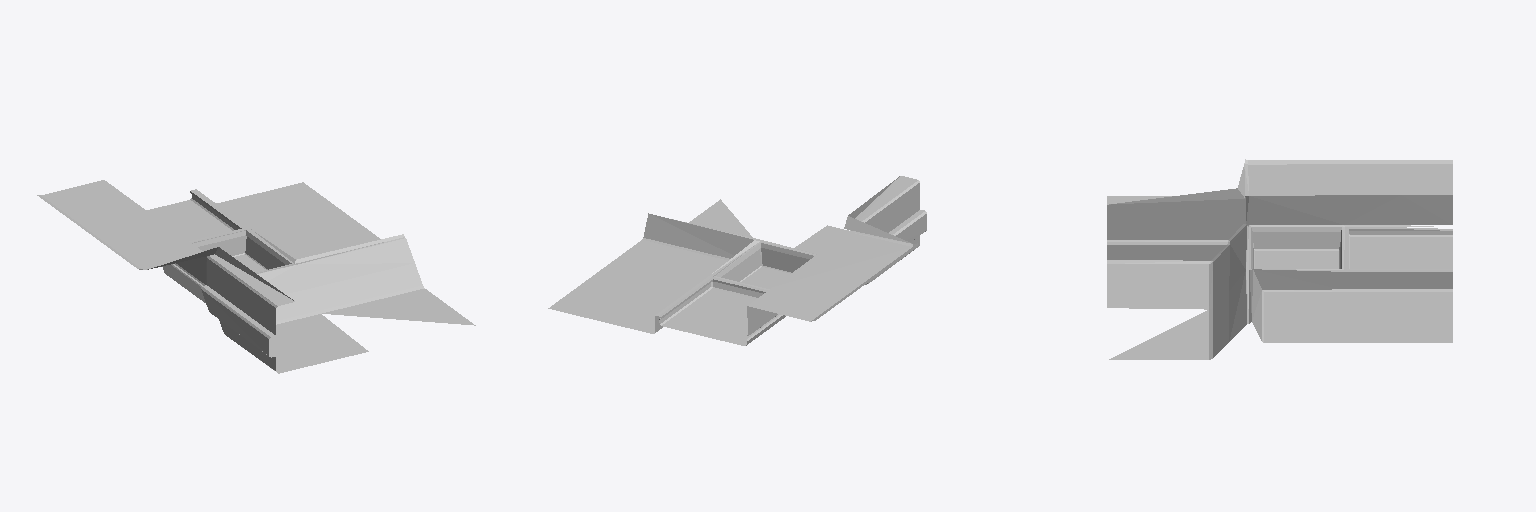
File: shard12.obj
The picture shows the model from 3 angles: view 1: azimuth 30°, elevation 25°; view 2: azimuth 150°, elevation 25°; view 3: azimuth 270°, elevation 25°; orthographic projection.
Visible parts, largest first — view 1: defaultMaterial.010; view 2: defaultMaterial.010; view 3: defaultMaterial.010.
Part boxes in pixels (x1,y1,x2,y2): defaultMaterial.010: (37, 180, 475, 373); defaultMaterial.010: (548, 176, 926, 345); defaultMaterial.010: (1107, 159, 1452, 359).
Size of the model in its own units: 7.5 by 2.09 by 8.38.